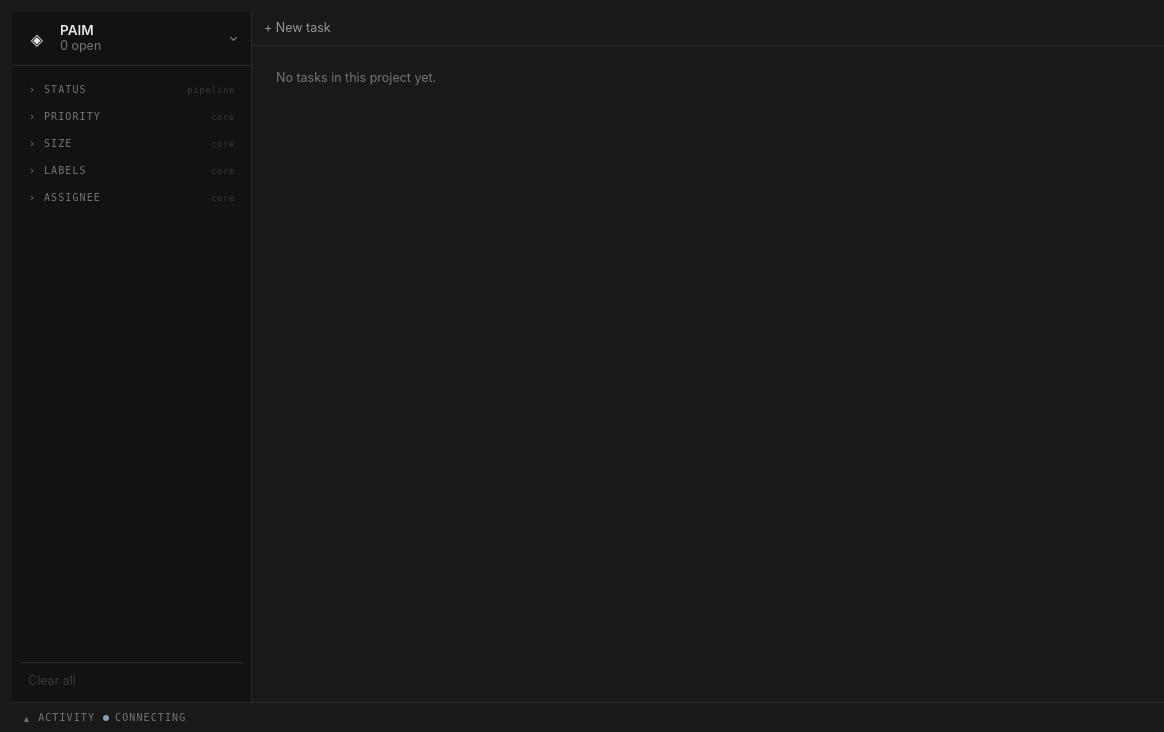
it: create-via-keyboard, end to end › focuses the row it just created
Step 1. Click the button "+ New task" → {"x": 297, "y": 28}, box [264, 20, 331, 37]
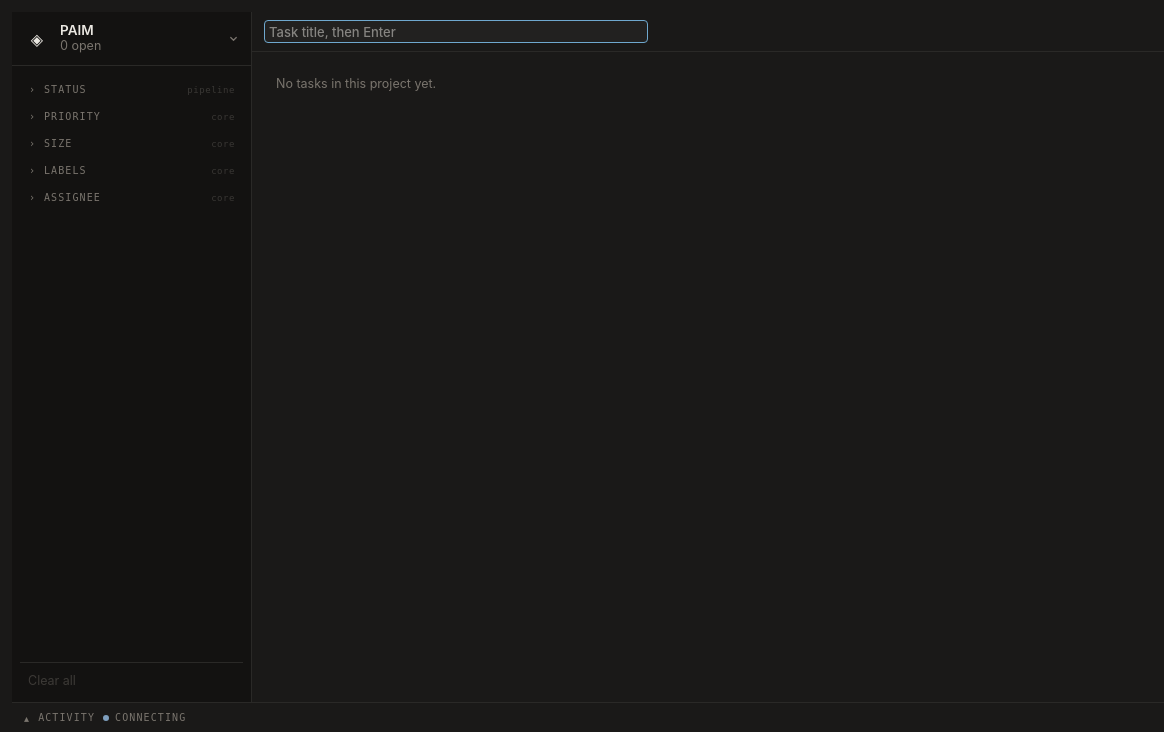
Step 2. Type "Focus me" into the field named "New task title" → {"x": 456, "y": 32}, box [264, 20, 648, 43]
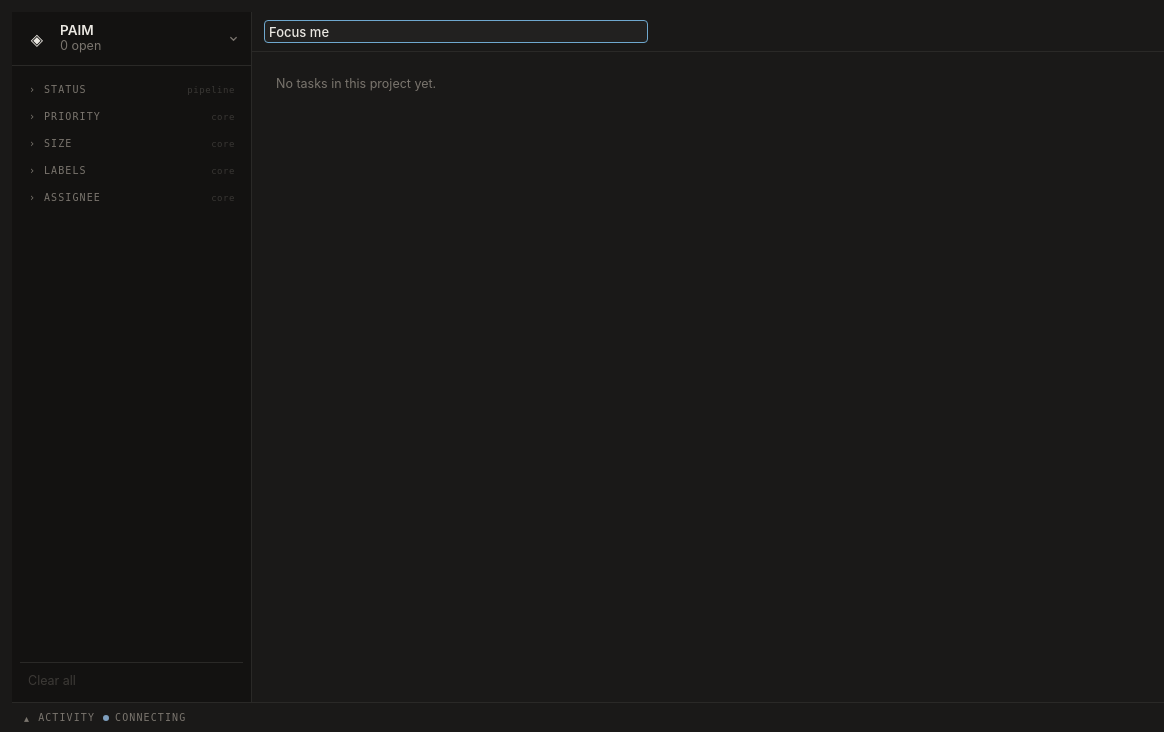
Step 3. Press Enter
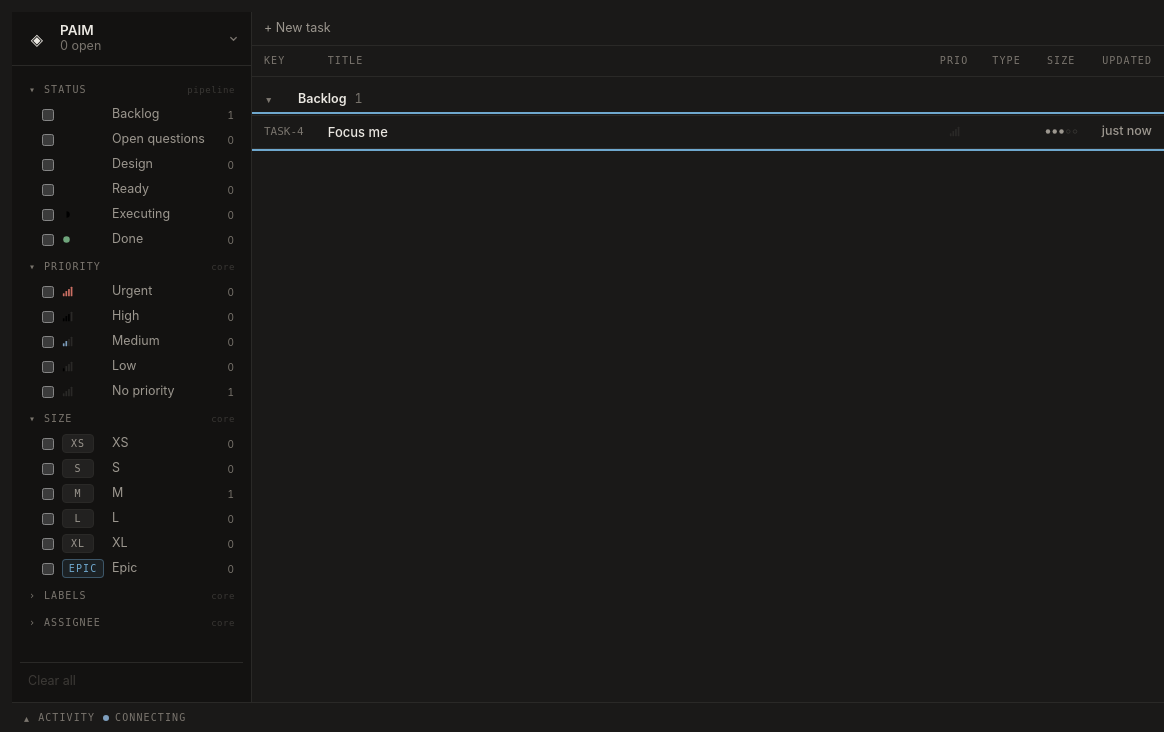
Expected: the row "TASK-4 Focus me just now" is shown, [252, 115, 1163, 148]
